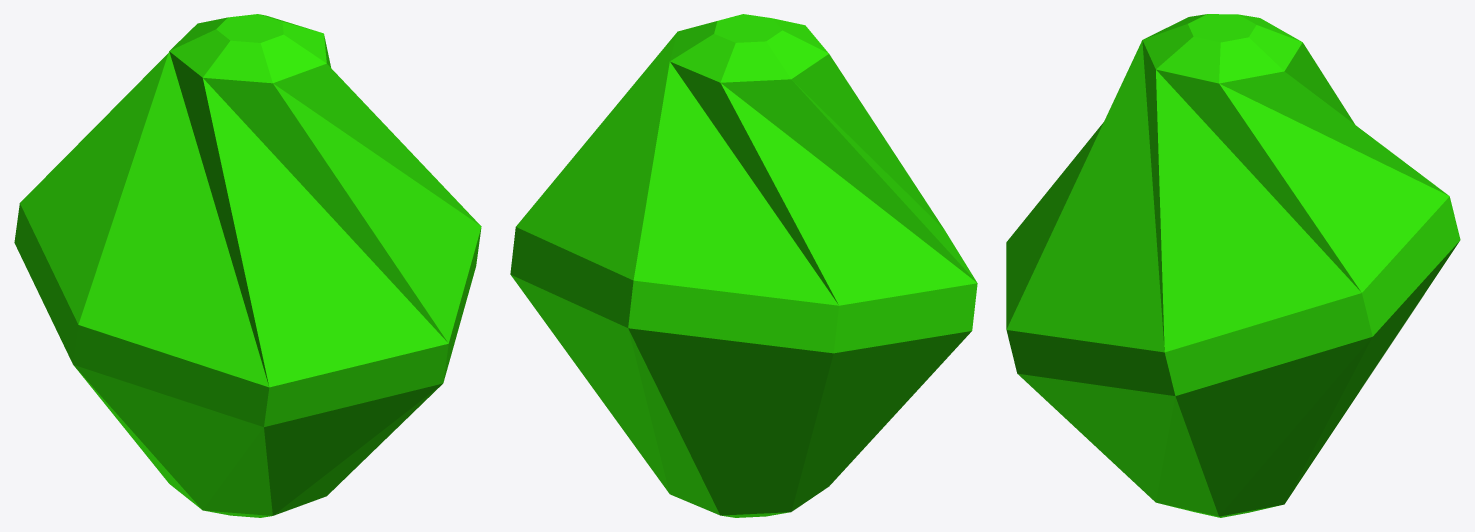
Rendered from gem.fbx.
3 renders of one model, left to right at view 1: azimuth 30°, elevation 25°; view 2: azimuth 150°, elevation 25°; view 3: azimuth 270°, elevation 25°, orthographic.
Parts seen in each view (by area): view 1: Cylinder; view 2: Cylinder; view 3: Cylinder.
Part boxes in pixels (x1=…): Cylinder: x1=14, y1=14, x2=481, y2=517; Cylinder: x1=510, y1=14, x2=977, y2=517; Cylinder: x1=1006, y1=14, x2=1460, y2=517.
Bounding box in the file's own units: 195 × 220 × 190.
